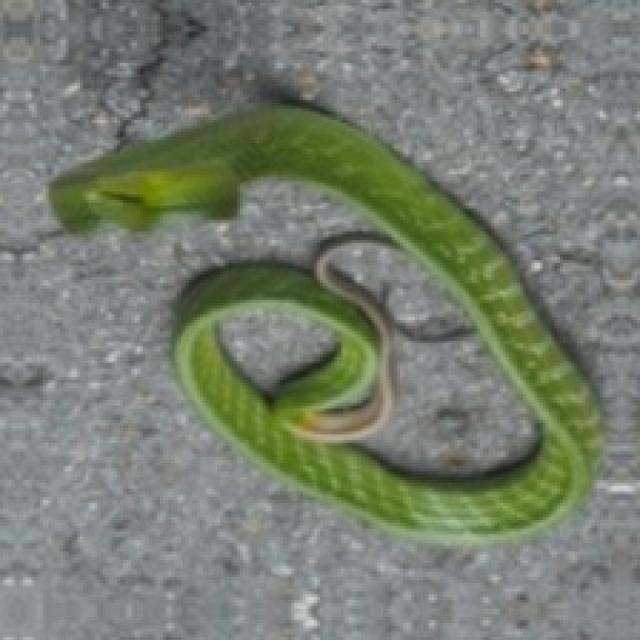red-tailed green ratsnake: (49, 103, 600, 540), (52, 102, 602, 539)
